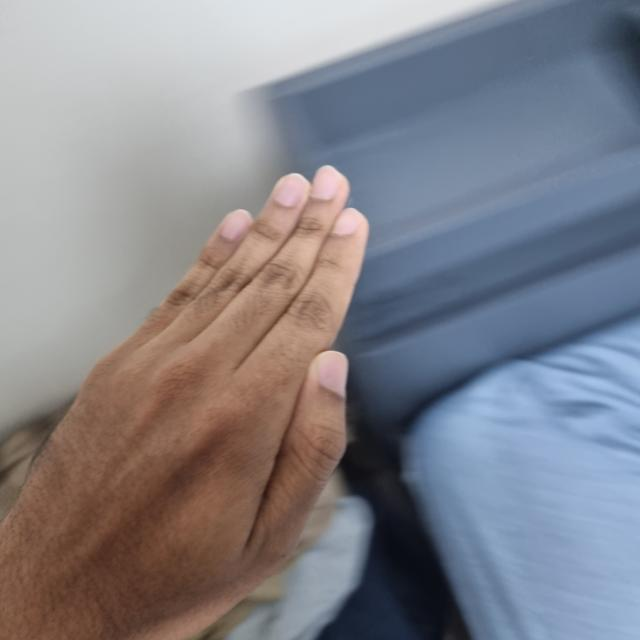Paper: (1, 167, 372, 636)
